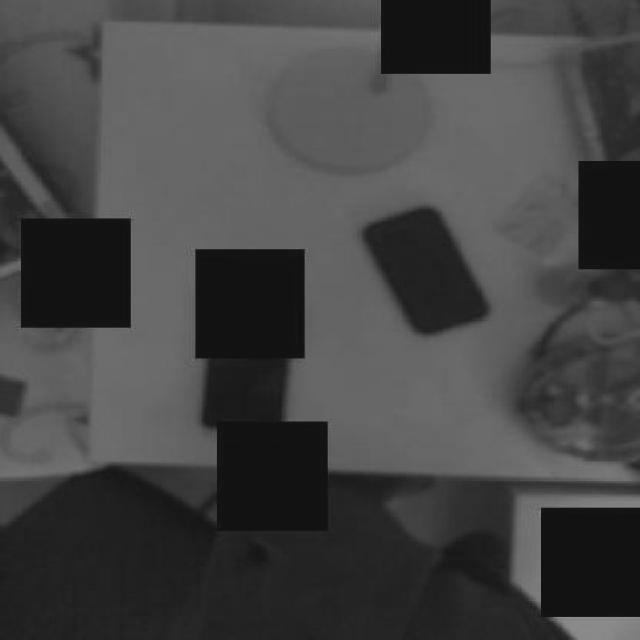fake: (360, 202, 494, 332), (194, 304, 300, 428)
